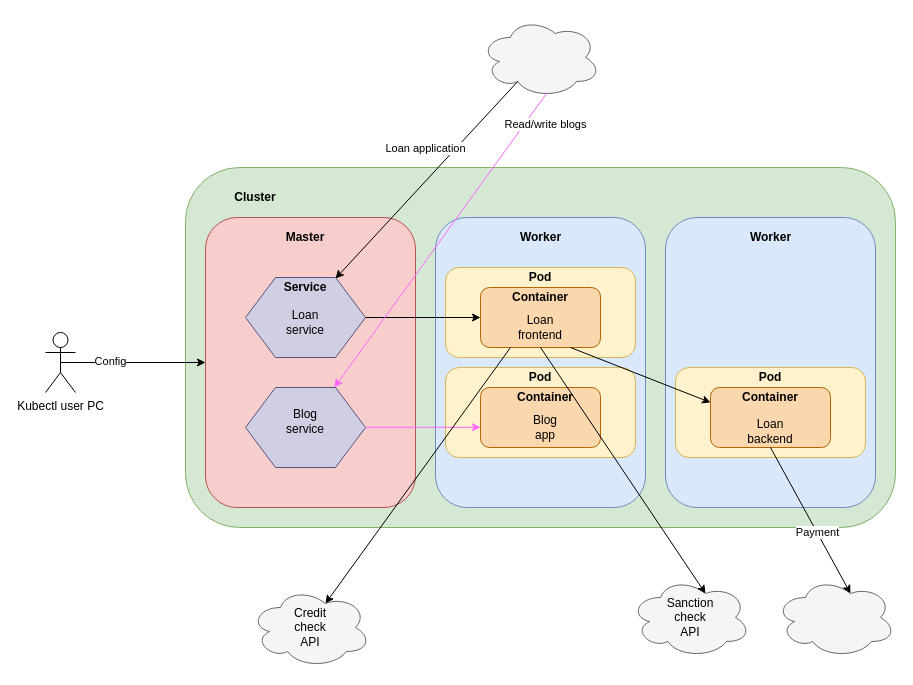
The diagram is 913 pixels wide and 685 high, and some of its shapes have lost their labels. Each missing label, with the centre of its shape:
"Bank API" belongs at [835,617].
"Internet" belongs at [540,57].
